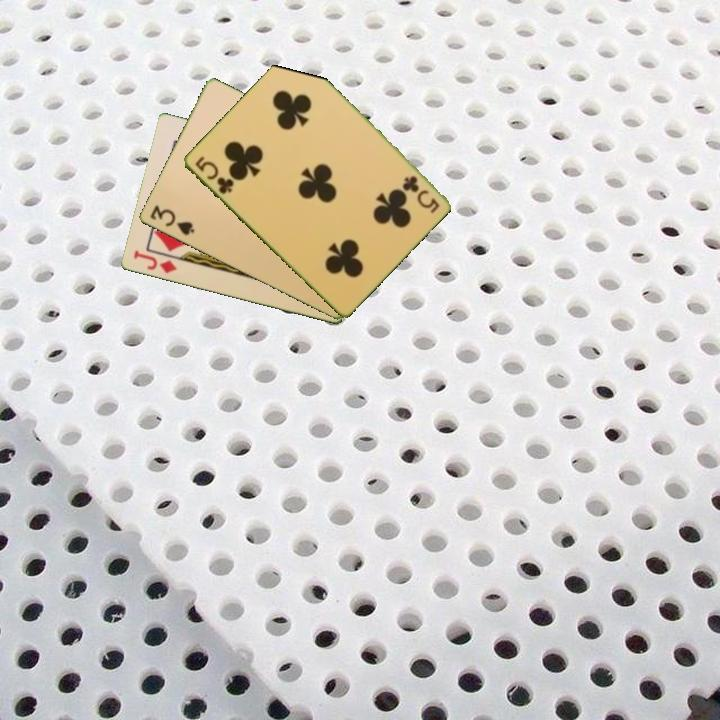3s: (146, 202, 197, 239)
5c: (191, 153, 236, 197), (399, 172, 442, 216)
Jd: (130, 247, 179, 276)
